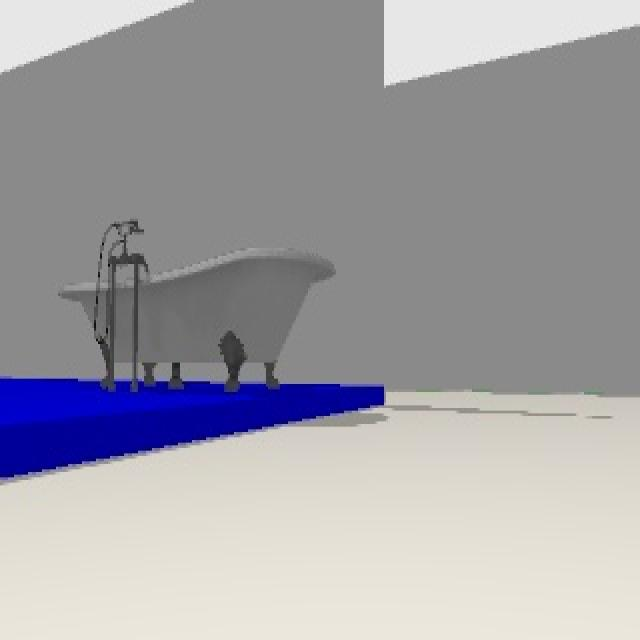bathtub: (62, 224, 334, 389)
